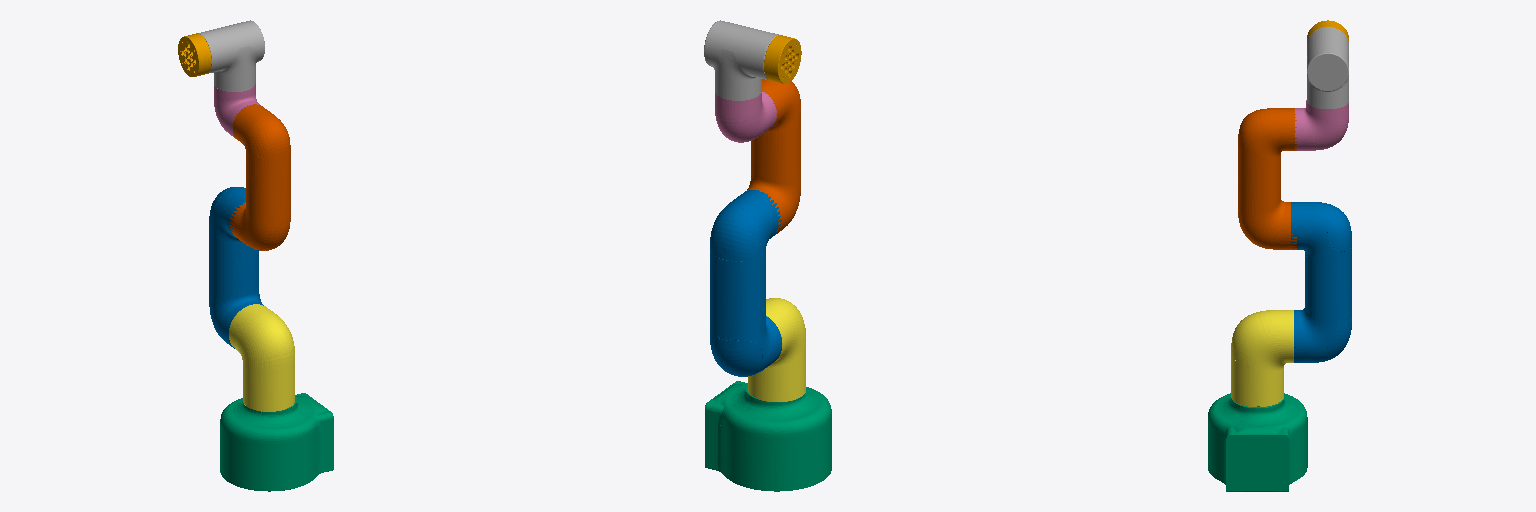
URDF robot description (mycobot):
<?xml version="1.0" encoding="utf-8"?>
<!-- =================================================================================== -->
<!-- |    This document was autogenerated by xacro from mycobot.urdf.xacro             | -->
<!-- |    EDITING THIS FILE BY HAND IS NOT RECOMMENDED                                 | -->
<!-- =================================================================================== -->
<robot name="mycobot" xmlns:controller="http://playerstage.sourceforge.net/gazebo/xmlschema/#controller" xmlns:interface="http://playerstage.sourceforge.net/gazebo/xmlschema/#interface" xmlns:sensor="http://playerstage.sourceforge.net/gazebo/xmlschema/#sensor">
  <material name="red">
    <color rgba="1.0 0.0 0.0 1.0"/>
  </material>
  <material name="green">
    <color rgba="0.0 1.0 0.0 1.0"/>
  </material>
  <material name="blue">
    <color rgba="0.0 0.0 1.0 1.0"/>
  </material>
  <material name="white">
    <color rgba="1.0 1.0 1.0 1.0"/>
  </material>
  <material name="gray">
    <color rgba="0.9 0.9 0.9 1.0"/>
  </material>
  <!-- Used for fixing robot to Gazebo 'base_link' -->
  <link name="world"/>
  <joint name="base_link_to_world_joint" type="fixed">
    <parent link="world"/>
    <child link="base_link"/>
  </joint>
  <!-- <link name="camera_link"/>
  <joint name="joint_kinect_first" type="fixed">
    <origin xyz="-0.7137 0.215 0.4331" rpy="-0.0415 0.3679 -0.2391" />
    <parent link="world"/>
    <child link="camera_link"/>
  </joint> -->
  <!-- <joint name="joint_rgb_kinect_first" type="fixed">
    <origin rpy="${M_PI/2} ${M_PI} ${M_PI/2}"/>
    <parent link="kinect_first_link"/>
    <child link="kinect_first_rgb_optical_frame"/>
  </joint> -->
  <link name="base_link">
    <visual>
      <geometry>
        <mesh filename="package://mycobot_description/meshes/stl/visual/base_link.dae" scale="0.001 0.001 0.001"/>
      </geometry>
      <origin rpy="0 0 3.14159" xyz="0 0 0"/>

    </visual>
    <collision>
      <geometry>
        <mesh filename="package://mycobot_description/meshes/stl/visual/base_link.stl" scale="0.001 0.001 0.001"/>
      </geometry>
      <origin rpy="0 0 3.14159" xyz="0 0 0"/>
    </collision>
    <inertial>
      <origin rpy="0 0 0" xyz="0 0 0"/>
      <mass value="1.0"/>
      <inertia ixx="6.25083333333e-06" ixy="0" ixz="0" iyy="6.25083333333e-06" iyz="0" izz="1.25e-05"/>
    </inertial>
  </link>
  <joint name="base_joint" type="fixed">
    <origin rpy="0 0 1.570795" xyz="0 0 0.006"/>
    <parent link="base_link"/>
    <child link="link1"/>
  </joint>
  <link name="link1">
    <visual>
      <geometry>
        <mesh filename="package://mycobot_description/meshes/stl/visual/link1.dae"/>
      </geometry>
      <origin rpy="0 0 0" xyz="0 0 0"/>

    </visual>
    <collision>
      <geometry>
        <mesh filename="package://mycobot_description/meshes/stl/collision/link1.stl"/>
        <!-- <mesh filename="package://mycobot_description/meshes/stl/visual/link1.stl" /> -->
      </geometry>
      <origin rpy="0 0 0" xyz="0 0 0"/>
    </collision>
    <inertial>
      <origin rpy="0 0 0" xyz="0 0 0.035"/>
      <mass value="1.0"/>
      <inertia ixx="0.00103333333333" ixy="0" ixz="0" iyy="0.00103333333333" iyz="0" izz="0.00125"/>
    </inertial>
  </link>
  <link name="link2">
    <visual>
      <geometry>
        <mesh filename="package://mycobot_description/meshes/stl/visual/link2.dae"/>
      </geometry>
      <origin rpy="0 0 0" xyz="0 0 0"/>

    </visual>
    <collision>
      <geometry>
        <mesh filename="package://mycobot_description/meshes/stl/collision/link2.stl"/>
        <!-- <mesh filename="package://mycobot_description/meshes/stl/visual/link2.stl" /> -->
      </geometry>
      <origin rpy="0 0 0" xyz="0 0 0"/>
    </collision>
    <inertial>
      <origin rpy="0 0 0" xyz="0 0 0.060"/>
      <mass value="0.2"/>
      <inertia ixx="0.000231666666667" ixy="0" ixz="0" iyy="0.000231666666667" iyz="0" izz="0.00025"/>
    </inertial>
  </link>
  <link name="link3">
    <visual>
      <geometry>
        <mesh filename="package://mycobot_description/meshes/stl/visual/link3.dae"/>
      </geometry>
      <origin rpy="0 0 0" xyz="0 0 0"/>

    </visual>
    <collision>
      <geometry>
        <mesh filename="package://mycobot_description/meshes/stl/collision/link3.stl"/>
        <!-- <mesh filename="package://mycobot_description/meshes/stl/visual/link3.stl" /> -->
      </geometry>
      <origin rpy="0 0 0" xyz="0 0 0"/>
    </collision>
    <inertial>
      <origin rpy="0 0 0" xyz="0.01 0 0.06"/>
      <mass value="0.4"/>
      <inertia ixx="0.00105083333333" ixy="0" ixz="0" iyy="0.00105083333333" iyz="0" izz="0.0005"/>
    </inertial>
  </link>
  <link name="link4">
    <visual>
      <geometry>
        <mesh filename="package://mycobot_description/meshes/stl/visual/link4.dae"/>
      </geometry>
      <origin rpy="0 0 0" xyz="0 0 0"/>

    </visual>
    <collision>
      <geometry>
        <mesh filename="package://mycobot_description/meshes/stl/collision/link4.stl"/>
        <!-- <mesh filename="package://mycobot_description/meshes/stl/visual/link4.stl" /> -->
      </geometry>
      <origin rpy="0 0 0" xyz="0 0 0"/>
    </collision>
    <inertial>
      <origin rpy="0 0 0" xyz="-0.01 0 0.05"/>
      <mass value="0.4"/>
      <inertia ixx="0.00105083333333" ixy="0" ixz="0" iyy="0.00105083333333" iyz="0" izz="0.0005"/>
    </inertial>
  </link>
  <link name="link5">
    <visual>
      <geometry>
        <mesh filename="package://mycobot_description/meshes/stl/visual/link5.dae"/>
      </geometry>
      <origin rpy="0 0 0" xyz="0 0 0"/>

    </visual>
    <collision>
      <geometry>
        <mesh filename="package://mycobot_description/meshes/stl/collision/link5.stl"/>
        <!-- <mesh filename="package://mycobot_description/meshes/stl/visual/link5.stl" /> -->
      </geometry>
      <origin rpy="0 0 0" xyz="0 0 0"/>
    </collision>
    <inertial>
      <origin rpy="0 0 0" xyz="0 0 0.05"/>
      <mass value="0.2"/>
      <inertia ixx="0.000166666666667" ixy="0" ixz="0" iyy="0.000166666666667" iyz="0" izz="0.00025"/>
    </inertial>
  </link>
  <link name="link6">
    <visual>
      <geometry>
        <mesh filename="package://mycobot_description/meshes/stl/visual/link6.dae"/>
      </geometry>
      <origin rpy="0 0 0" xyz="0 0 0 "/>

    </visual>
    <collision>
      <geometry>
        <mesh filename="package://mycobot_description/meshes/stl/collision/link6.stl"/>
        <!-- <mesh filename="package://mycobot_description/meshes/stl/visual/link6.stl" /> -->
      </geometry>
      <origin rpy="0 0 0" xyz="0 0 0"/>
    </collision>
    <inertial>
      <origin rpy="0 0 0" xyz="0 0 0.037"/>
      <mass value="0.5"/>
      <inertia ixx="0.0004625" ixy="0" ixz="0" iyy="0.0004625" iyz="0" izz="0.000625"/>
    </inertial>
  </link>
  <link name="link6_flange">
    <visual>
      <geometry>
        <mesh filename="package://mycobot_description/meshes/stl/visual/link7.dae"/>
      </geometry>
      <origin rpy="0 0 0" xyz="0 0 0 "/>

    </visual>
    <collision>
      <geometry>
        <mesh filename="package://mycobot_description/meshes/stl/collision/link7.stl"/>
      </geometry>
      <origin rpy="0 0 0" xyz="0 0 0"/>
    </collision>
    <inertial>
      <origin rpy="1.570795 0 0" xyz="0 0.0025 0"/>
      <mass value="0.1"/>
      <inertia ixx="1.02083333333e-05" ixy="0" ixz="0" iyy="1.02083333333e-05" iyz="0" izz="2e-05"/>
    </inertial>
  </link>
  <joint name="joint1" type="revolute">
    <axis xyz="0 0 1"/>
    <limit effort="10.0" lower="-3.14159" upper="3.14159" velocity="1.0"/>
    <parent link="link1"/>
    <child link="link2"/>
    <origin rpy="0 0 0" xyz="0 0 0.0706"/>
    <dynamics damping="1.0e-6" friction="2.0e-1"/>
  </joint>
  <joint name="joint2" type="revolute">
    <axis xyz="1 0 0"/>
    <limit effort="10.0" lower="-3.14159" upper="3.14159" velocity="1.0"/>
    <parent link="link2"/>
    <child link="link3"/>
    <origin rpy="0 0 0" xyz="0.03256 0 0.05976"/>
    <dynamics damping="1.0e-6" friction="2.0e-1"/>
  </joint>
  <joint name="joint3" type="revolute">
    <axis xyz="1 0 0"/>
    <limit effort="10.0" lower="-3.14159" upper="3.14159" velocity="1.0"/>
    <parent link="link3"/>
    <child link="link4"/>
    <origin rpy="0 0 0" xyz=" 0.00272 0 0.1104"/>
    <dynamics damping="1.0e-6" friction="2.0e-1"/>
  </joint>
  <joint name="joint4" type="revolute">
    <axis xyz="1 0 0"/>
    <limit effort="10.0" lower="-3.14159" upper="3.14159" velocity="1.0"/>
    <parent link="link4"/>
    <child link="link5"/>
    <origin rpy="0 0 0" xyz="-0.00164 0 0.096"/>
    <dynamics damping="1.0e-6" friction="2.0e-1"/>
  </joint>
  <joint name="joint5" type="revolute">
    <axis xyz="0 0 1"/>
    <limit effort="10.0" lower="-3.14159" upper="3.14159" velocity="1.0"/>
    <parent link="link5"/>
    <child link="link6"/>
    <origin rpy="0 0 0" xyz="0.0298 0 0.02876"/>
    <dynamics damping="1.0e-6" friction="2.0e-1"/>
  </joint>
  <joint name="joint6" type="revolute">
    <axis xyz="0 0 1"/>
    <limit effort="10.0" lower="-3.14159" upper="3.14159" velocity="1.0"/>
    <parent link="link6"/>
    <child link="link6_flange"/>
    <origin rpy="-1.570795 0 0" xyz="0 0.0351 0.03792"/>
    <dynamics damping="1.0e-6" friction="2.0e-1"/>
  </joint>
  <!-- for gazebo simulation -->
  <transmission name="joint1_trans">
    <provideFeedback>true</provideFeedback>
    <implicitSpringDamper>0</implicitSpringDamper>
    <motorTorqueConstant>0.418</motorTorqueConstant>
    <type>transmission_interface/SimpleTransmission</type>
    <joint name="joint1">
      <hardwareInterface>hardware_interface/PositionJointInterface</hardwareInterface>
    </joint>
    <actuator name="joint1_motor">
      <hardwareInterface>hardware_interface/PositionJointInterface</hardwareInterface>
      <mechanicalReduction>1</mechanicalReduction>
    </actuator>
  </transmission>
  <transmission name="joint2_trans">
    <provideFeedback>true</provideFeedback>
    <implicitSpringDamper>0</implicitSpringDamper>
    <motorTorqueConstant>0.418</motorTorqueConstant>
    <type>transmission_interface/SimpleTransmission</type>
    <joint name="joint2">
      <hardwareInterface>hardware_interface/PositionJointInterface</hardwareInterface>
    </joint>
    <actuator name="joint2_motor">
      <hardwareInterface>hardware_interface/PositionJointInterface</hardwareInterface>
      <mechanicalReduction>1</mechanicalReduction>
    </actuator>
  </transmission>
  <transmission name="joint3_trans">
    <provideFeedback>true</provideFeedback>
    <implicitSpringDamper>0</implicitSpringDamper>
    <motorTorqueConstant>0.418</motorTorqueConstant>
    <type>transmission_interface/SimpleTransmission</type>
    <joint name="joint3">
      <hardwareInterface>hardware_interface/PositionJointInterface</hardwareInterface>
    </joint>
    <actuator name="joint3_motor">
      <hardwareInterface>hardware_interface/PositionJointInterface</hardwareInterface>
      <mechanicalReduction>1</mechanicalReduction>
    </actuator>
  </transmission>
  <transmission name="joint4_trans">
    <provideFeedback>true</provideFeedback>
    <implicitSpringDamper>0</implicitSpringDamper>
    <motorTorqueConstant>0.418</motorTorqueConstant>
    <type>transmission_interface/SimpleTransmission</type>
    <joint name="joint4">
      <hardwareInterface>hardware_interface/PositionJointInterface</hardwareInterface>
    </joint>
    <actuator name="joint4_motor">
      <hardwareInterface>hardware_interface/PositionJointInterface</hardwareInterface>
      <mechanicalReduction>1</mechanicalReduction>
    </actuator>
  </transmission>
  <transmission name="joint5_trans">
    <provideFeedback>true</provideFeedback>
    <implicitSpringDamper>0</implicitSpringDamper>
    <motorTorqueConstant>0.418</motorTorqueConstant>
    <type>transmission_interface/SimpleTransmission</type>
    <joint name="joint5">
      <hardwareInterface>hardware_interface/PositionJointInterface</hardwareInterface>
    </joint>
    <actuator name="joint5_motor">
      <hardwareInterface>hardware_interface/PositionJointInterface</hardwareInterface>
      <mechanicalReduction>1</mechanicalReduction>
    </actuator>
  </transmission>
  <transmission name="joint6_trans">
    <provideFeedback>true</provideFeedback>
    <implicitSpringDamper>0</implicitSpringDamper>
    <motorTorqueConstant>0.418</motorTorqueConstant>
    <type>transmission_interface/SimpleTransmission</type>
    <joint name="joint6">
      <hardwareInterface>hardware_interface/PositionJointInterface</hardwareInterface>
    </joint>
    <actuator name="joint6_motor">
      <hardwareInterface>hardware_interface/PositionJointInterface</hardwareInterface>
      <mechanicalReduction>1</mechanicalReduction>
    </actuator>
  </transmission>
  <gazebo reference="link1">
    <material>Gazebo/White</material>
  </gazebo>
  <gazebo reference="link2">
    <material>Gazebo/White</material>
  </gazebo>
  <gazebo reference="link3">
    <material>Gazebo/White</material>
  </gazebo>
  <gazebo reference="link4">
    <material>Gazebo/White</material>
  </gazebo>
  <gazebo reference="link5">
    <material>Gazebo/White</material>
  </gazebo>
  <gazebo reference="link6">
    <material>Gazebo/White</material>
  </gazebo>
  <!-- <xacro:if value="$(arg gazebo_plugin)"> -->
  <gazebo>
    <plugin filename="libgazebo_ros_control.so" name="gazebo_ros_control">
      <robotNamespace></robotNamespace>
      <robotSimType>gazebo_ros_control/DefaultRobotHWSim</robotSimType>
      <legacyModeNS>false</legacyModeNS>
    </plugin>
  </gazebo>
  <!-- </xacro:if> -->
  <mycobot/>
</robot>

--- What the picture shows (computed from the rendered views, not written in the file) ---
The picture shows the robot from 3 angles, left to right: view 1: azimuth 30°, elevation 25°; view 2: azimuth 150°, elevation 25°; view 3: azimuth 270°, elevation 25°; orthographic projection.
Model mycobot with 9 links and 8 joints (6 revolute, 2 fixed), rooted at world, posed every joint at zero.
Links seen in each view (by area): view 1: link1, link4, link2, link3, link6, link6_flange, link5; view 2: link1, link3, link4, link6, link2, link5, link6_flange; view 3: link1, link3, link4, link2, link6, link5.
Link boxes in pixels (x1,y1,x2,y2): link1: [220, 393, 333, 491]; link4: [230, 104, 290, 250]; link2: [229, 304, 294, 411]; link3: [209, 187, 263, 348]; link6: [196, 20, 264, 91]; link6_flange: [178, 34, 211, 76]; link5: [214, 84, 259, 138]; link1: [705, 381, 831, 491]; link3: [710, 190, 781, 376]; link4: [745, 79, 800, 235]; link6: [704, 20, 778, 100]; link2: [748, 298, 805, 401]; link5: [715, 92, 776, 142]; link6_flange: [764, 35, 801, 83]; link1: [1208, 393, 1307, 491]; link3: [1291, 202, 1351, 362]; link4: [1238, 108, 1296, 249]; link2: [1231, 310, 1293, 406]; link6: [1307, 27, 1348, 108]; link5: [1295, 100, 1348, 150].
Bounding box of the posed robot: 0.1008 × 0.1303 × 0.4286 m (x, y, z).
8 mesh visuals loaded from 8 distinct referenced files (8 Collada DAE).